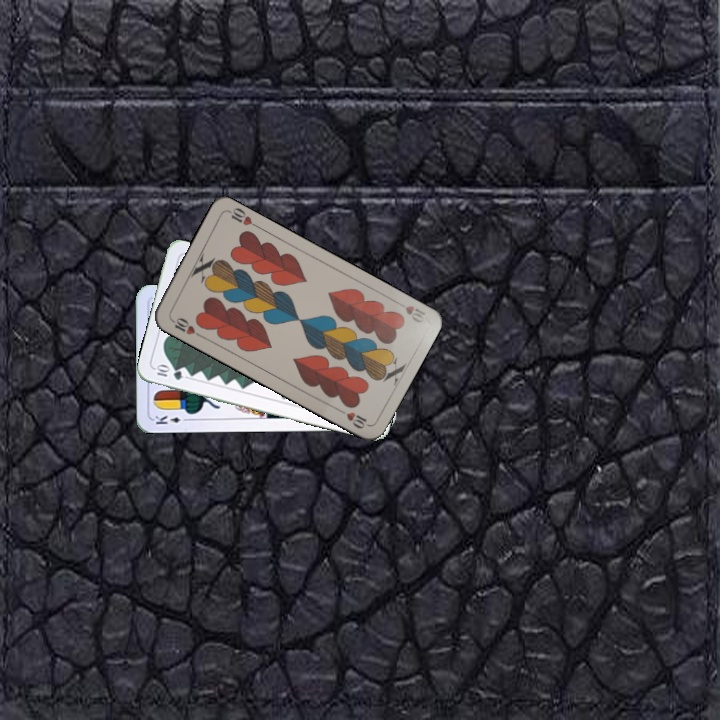EK: (151, 412, 192, 427)
G10: (151, 362, 185, 383)
H10: (391, 296, 428, 325), (167, 313, 204, 339)
